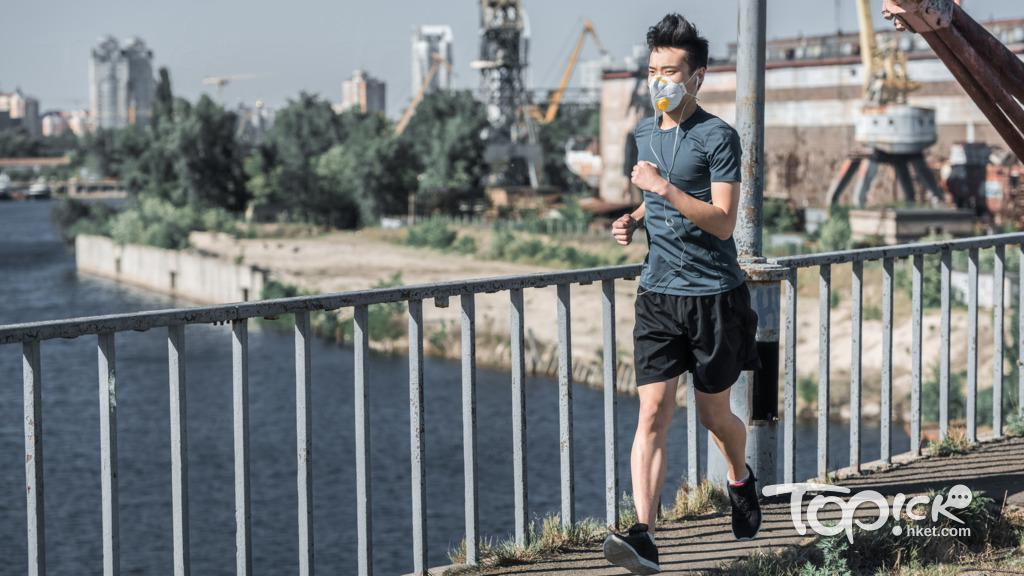mask: (641, 55, 689, 112)
